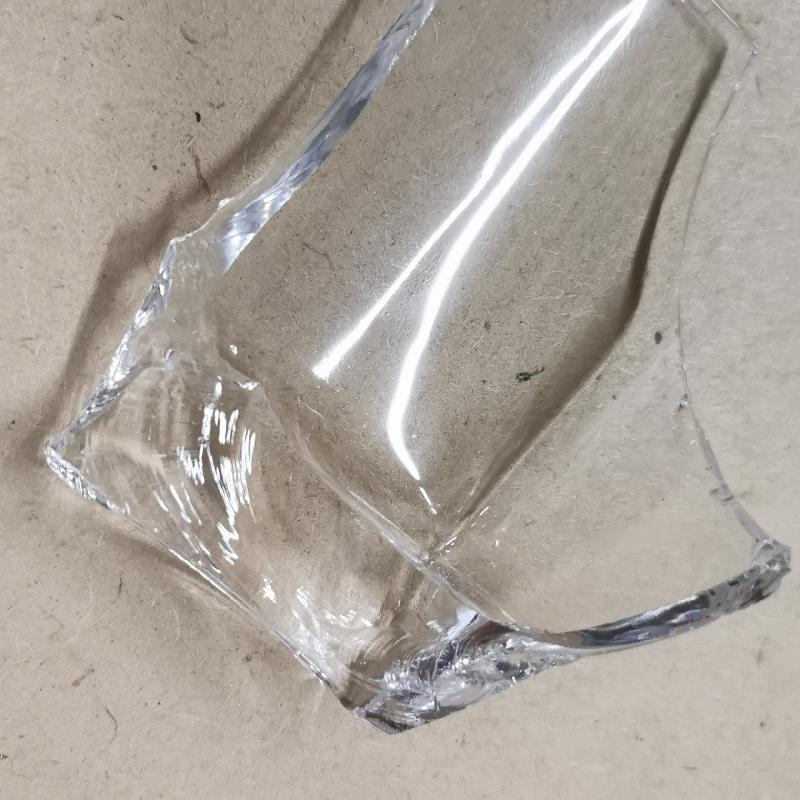glass: (39, 0, 788, 732)
